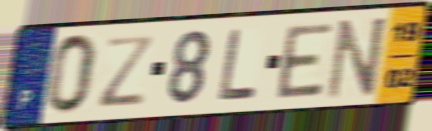0: (42, 32, 104, 117)
8: (166, 28, 213, 107)
E: (275, 20, 336, 101)
L: (216, 26, 260, 104)
N: (324, 14, 390, 102)
Z: (97, 33, 159, 110)
